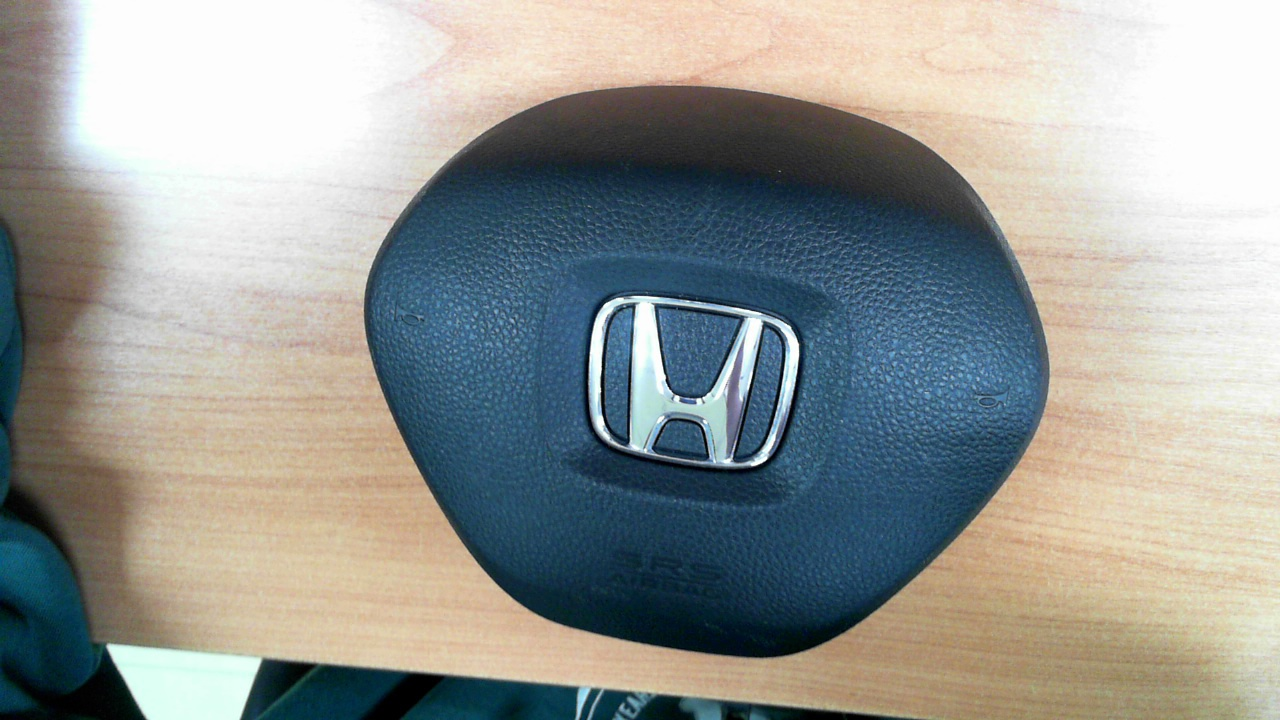Airbag: (364, 82, 1051, 659)
Honda: (587, 295, 800, 467)
